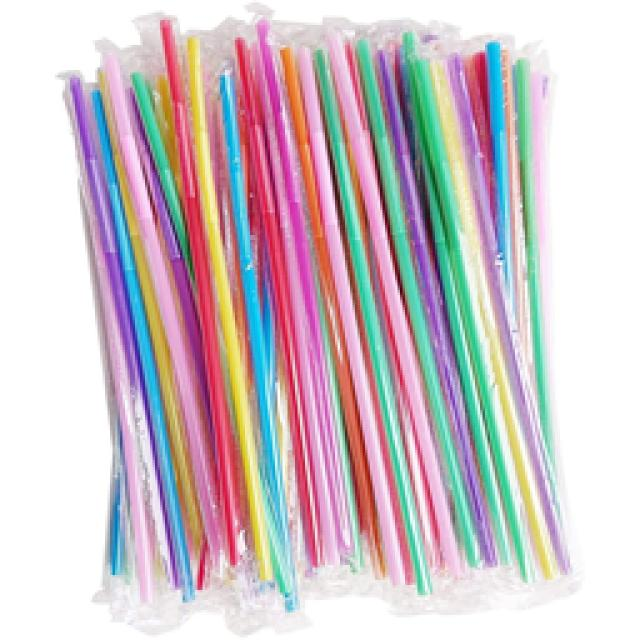plastic: (55, 12, 577, 620)
